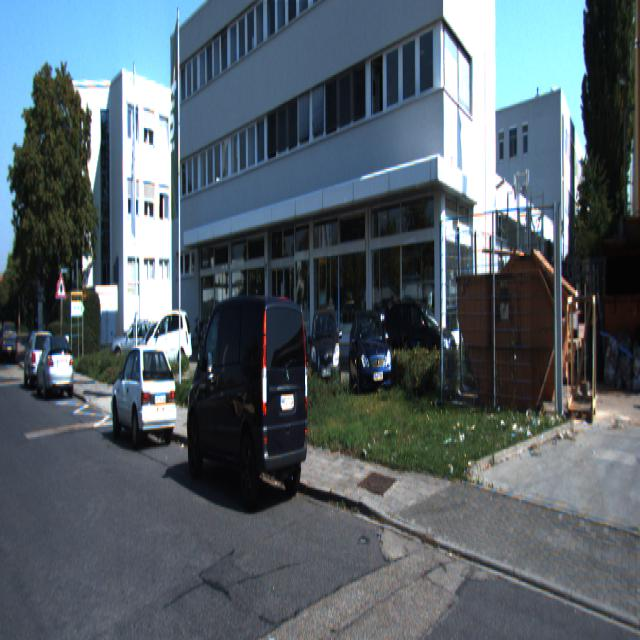Car: (181, 286, 311, 526), (108, 341, 177, 456), (347, 308, 393, 412), (305, 305, 340, 407), (142, 308, 192, 376), (0, 320, 15, 366)
